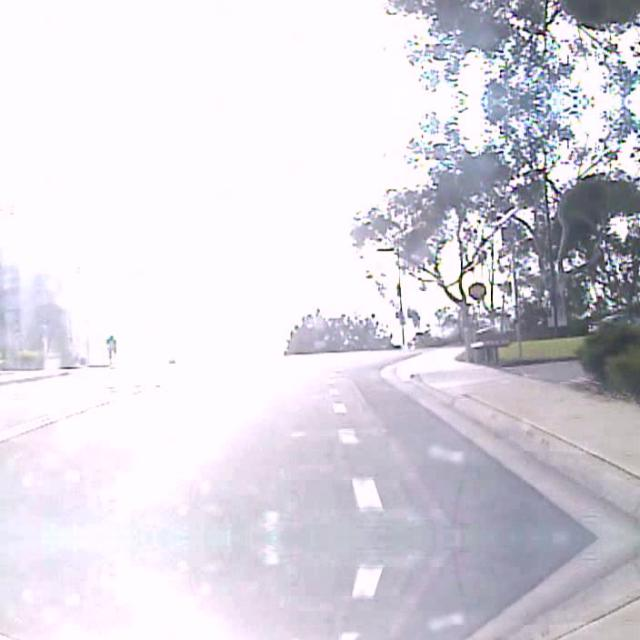stop: (468, 281, 486, 299)
